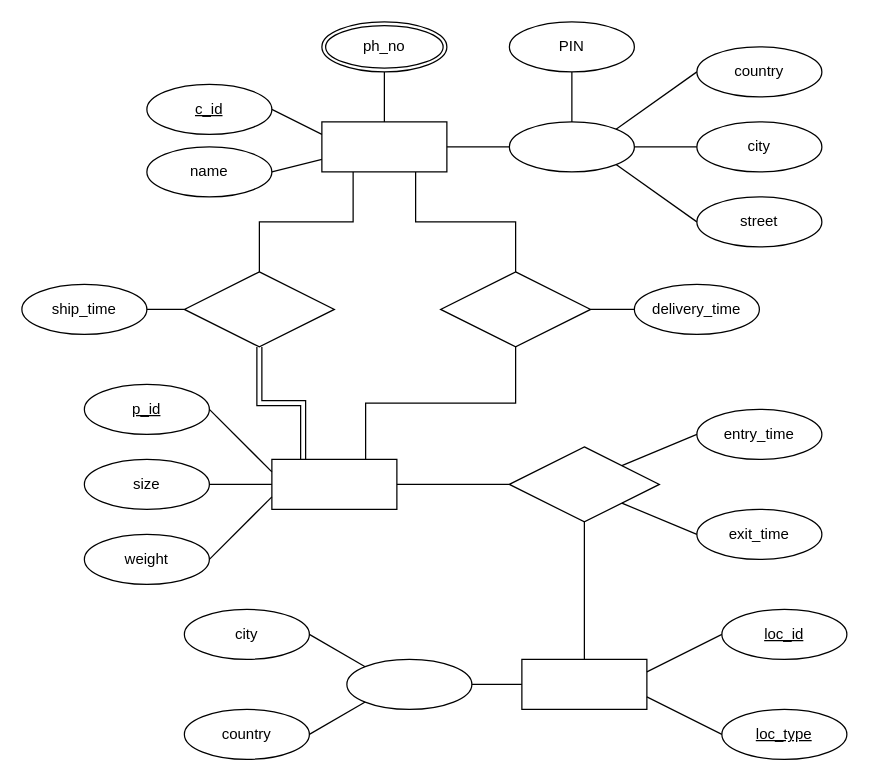
The diagram is 869 pixels wide and 781 high, and some of its shapes have lost their labels. Here are the shapes that lost their labels. From the top down, the centre of each, then its label:
(384,146): customer
(571,146): address
(258,309): ships
(515,309): receives
(334,483): package
(583,484): stores
(409,683): place
(584,683): location
